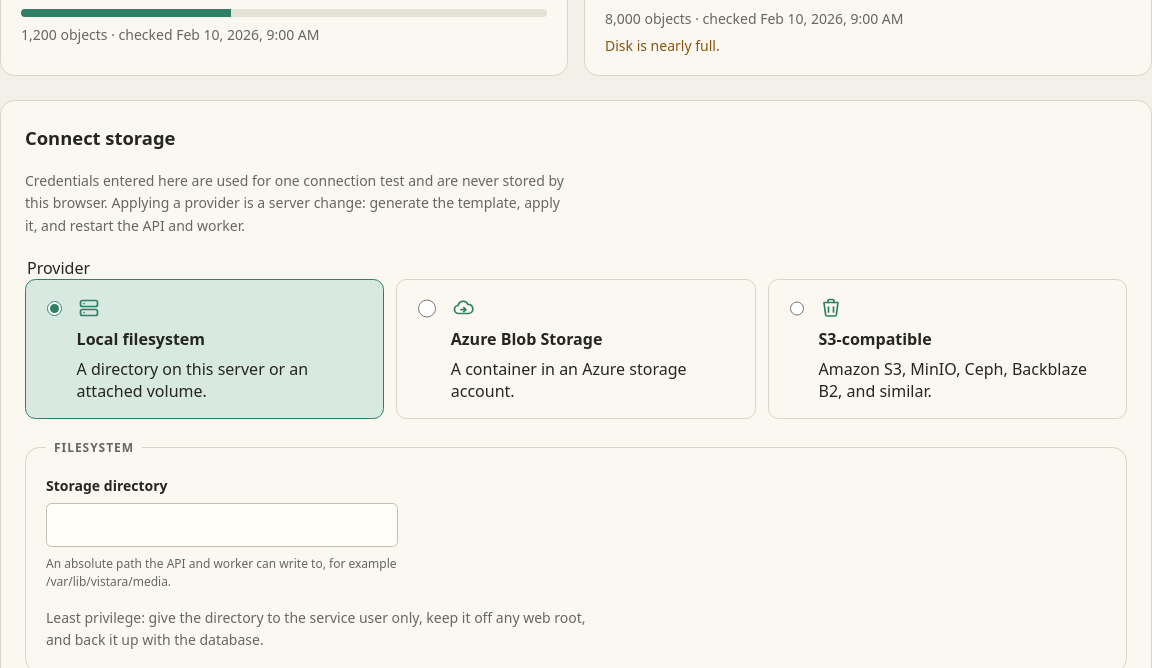
Test: provider assistant › checks the configuration in the browser before sending a credential
(page scrolled)
Click the radio button labelled "S3-compatible". click: (797, 308)
box: [790, 299, 804, 318]
(page scrolled)
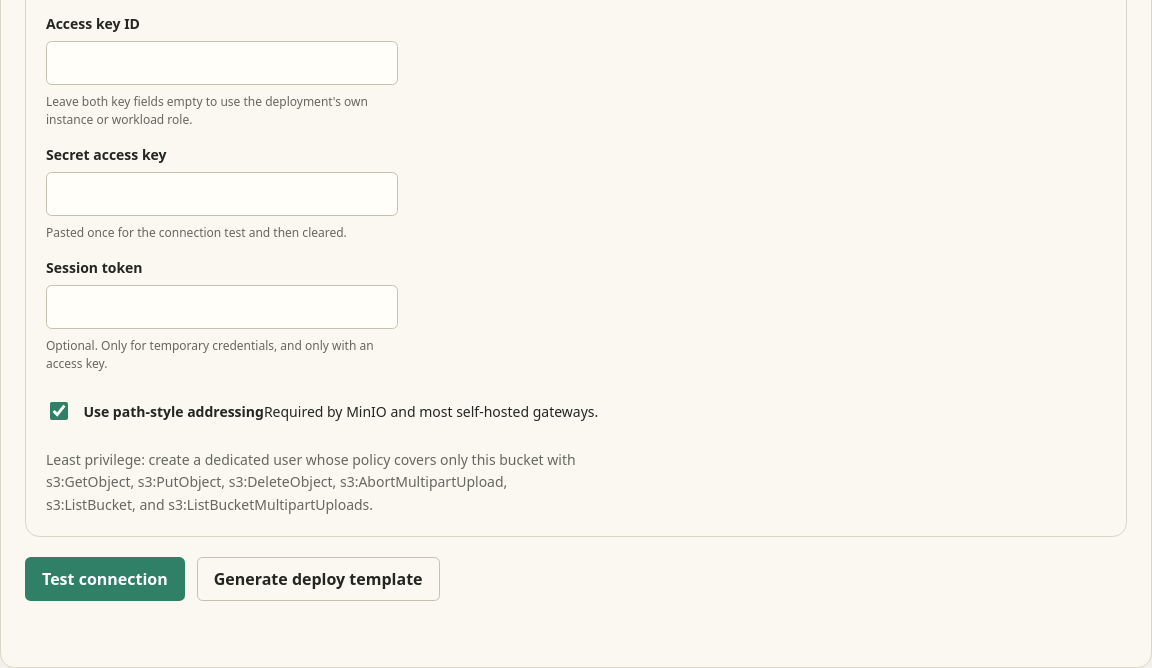
Click the button "Test connection". click: (105, 579)
box: [25, 557, 185, 601]
(page scrolled)
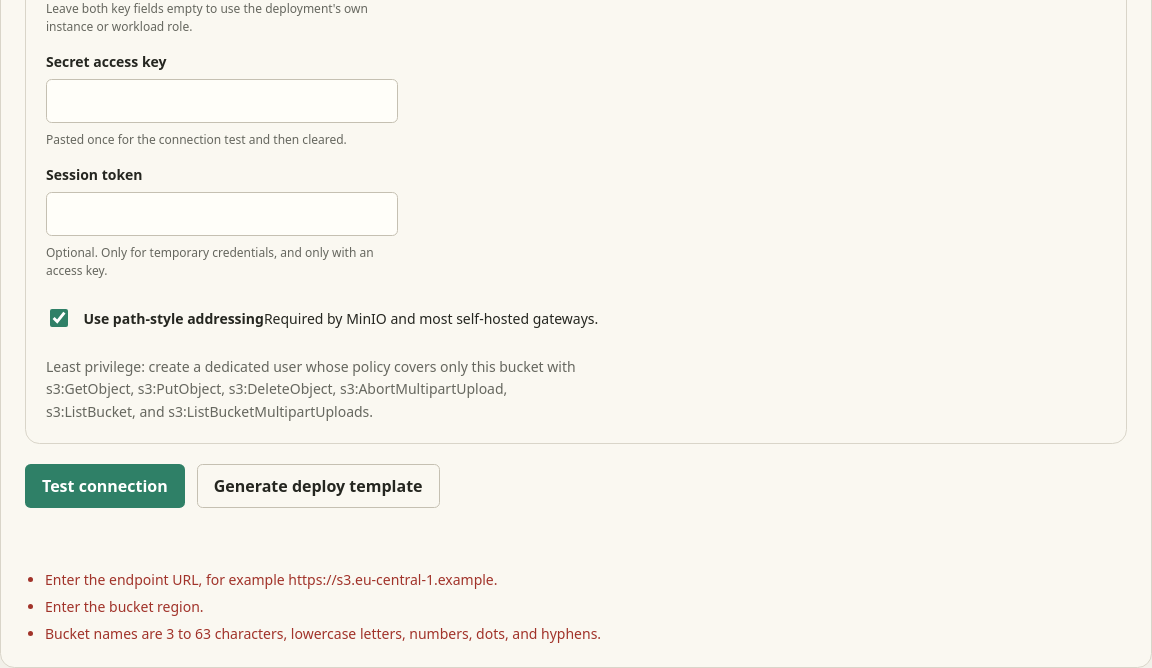
expect the list item "Enter the endpoint URL" is shown: met, box [45, 570, 498, 589]
expect the list item "Enter the bucket region." is shown: met, box [45, 597, 204, 616]
